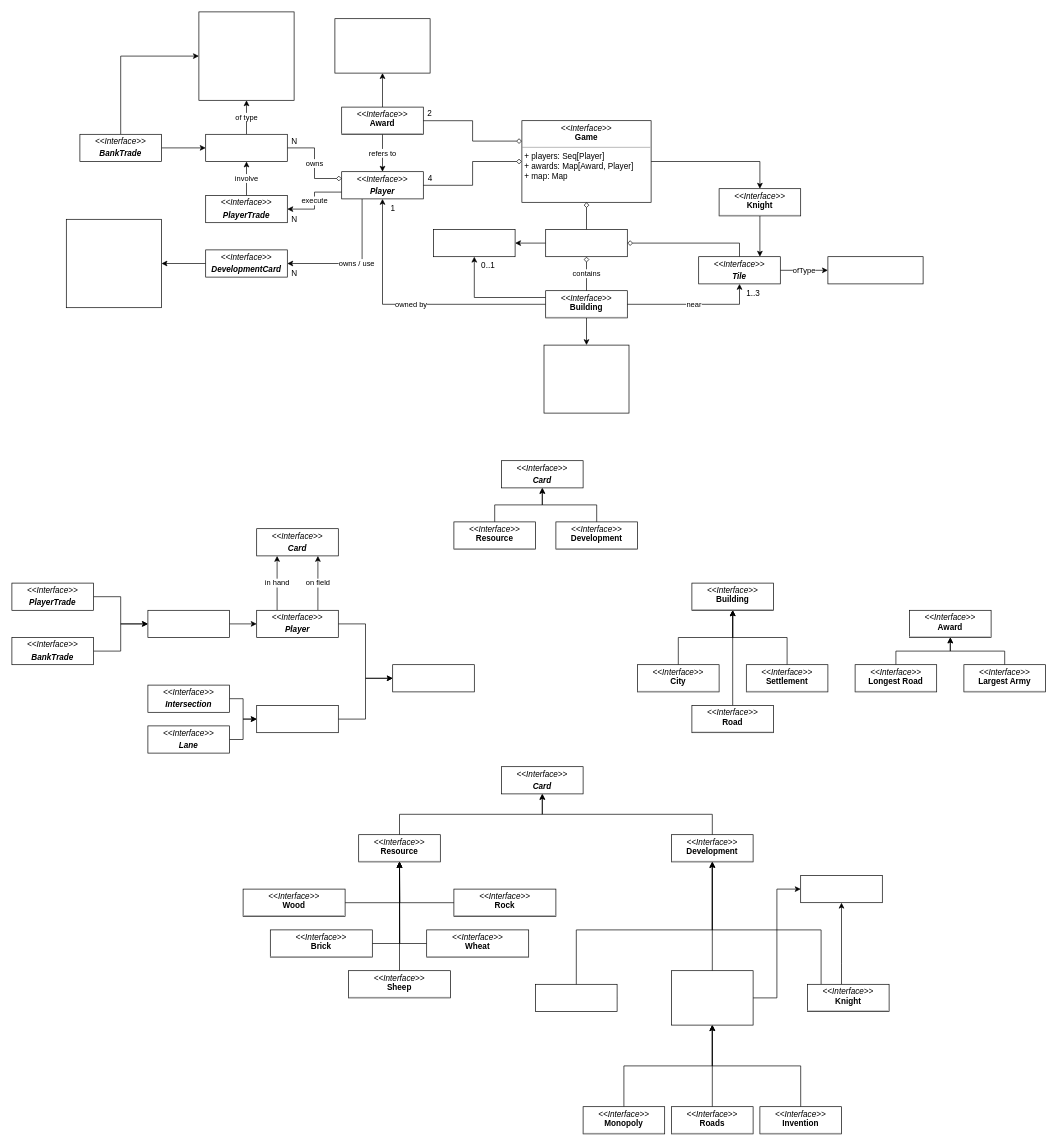
This 1057x1146 diagram has some shape labels left out. Here are the shapes that lost their labels. From the top down, the centre of each, then its label:
At (246,55): "<<Enum>> ResourceType + WOOD + ROCK + BRICK + WHEAT + SHEEP".
At (382,45): "<<Enum>> AwardType + LONGEST_ROAD + LARGEST_ARMY".
At (246,148): "<<Interface>> ResourceCard".
At (114,263): "<<Enum>> DevelopmentType + VICTORY_POINT + KNIGHT + MONOPOLY + ROADS + INVENTION".
At (474,243): "<<Interface>> Port".
At (586,243): "<<Interface>> Map".
At (875,270): "<<Enum>> ResourceType".
At (586,378): "<<Enum>> BuildingType + ROAD + CITY + SETTLEMENT".
At (188,624): "<<Interface>> Trade".
At (433,678): "<<Interface>> Game".
At (297,719): "<<Interface>> Board".
At (841,889): "<<Interface>> Activable".
At (576,998): "<<Interface>> Victory Point".
At (712,997): "<<Interface>> Progress + Effect".
